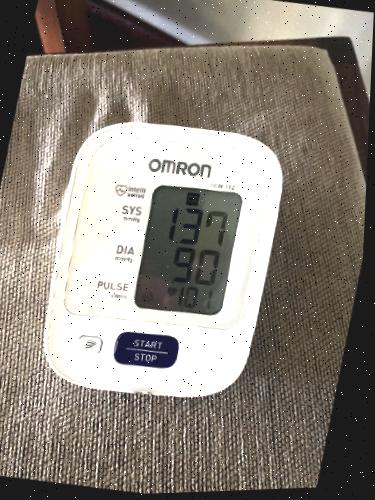bpm: (131, 176, 243, 324)
